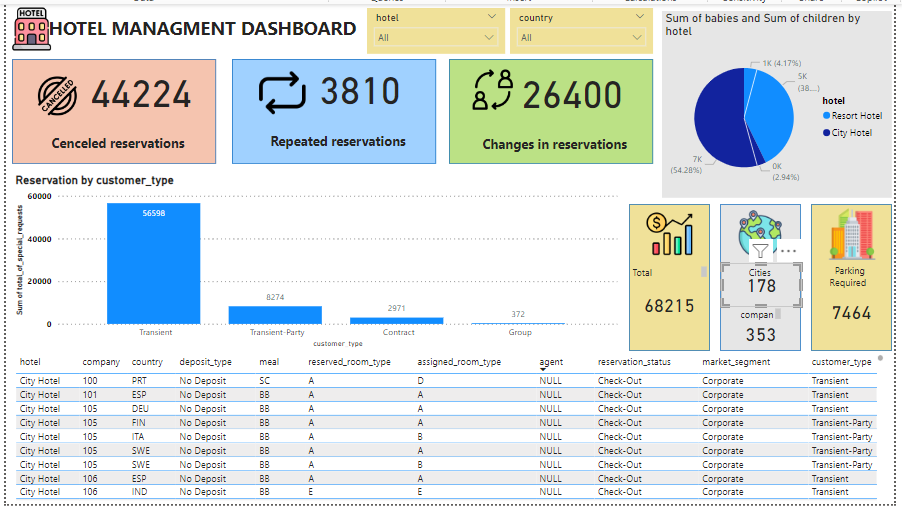

Layout of this report page (visuals, bound fields, positions):
{"tool":"powerbi","page":{"name":"Page 1","canvas":[1280,720],"ordinal":0},"visuals":[{"type":"textbox","box":[56.2,10.1,463.7,56.2],"z":0},{"type":"shape","box":[8.4,79,294,151.2],"z":1000},{"type":"shape","box":[325.9,79,294,151.2],"z":2000},{"type":"shape","box":[638.3,79,294,151.2],"z":3000},{"type":"card","fields":{"Values":["Sum(hotel_bookings.is_canceled)"]},"box":[87.3,99.1,213.3,65.5],"z":4000},{"type":"textbox","box":[60.5,183.1,263.7,35.3],"z":5000},{"type":"image","box":[0,99.1,147.8,65.5],"z":6000},{"type":"card","fields":{"Values":["Sum(hotel_bookings.is_repeated_guest)"]},"box":[403.1,95.7,213.3,65.5],"z":7000},{"type":"textbox","box":[376.2,179.7,263.7,35.3],"z":8000},{"type":"card","fields":{"Values":["Sum(hotel_bookings.booking_changes)"]},"box":[708.7,100.6,213.3,65.5],"z":9000},{"type":"textbox","box":[681.8,184.6,263.7,35.3],"z":10000},{"type":"image","box":[325.9,89,144.5,77.3],"z":11000},{"type":"pieChart","fields":{"Category":["hotel_bookings.hotel"],"Y":["Sum(hotel_bookings.babies)","Sum(hotel_bookings.children)"]},"box":[944.6,10.1,331.2,269.3],"z":12000},{"type":"image","box":[637.9,89.3,126.7,67.7],"z":13000},{"type":"slicer","fields":{"Values":["hotel_bookings.hotel"]},"box":[519.8,5.8,198.7,66.2],"z":14000},{"type":"slicer","fields":{"Values":["hotel_bookings.country"]},"box":[725.8,5.8,205.9,66.2],"z":15000},{"type":"columnChart","title":"Reservation by customer_type","fields":{"Category":["hotel_bookings.customer_type"],"Y":["Sum(hotel_bookings.total_of_special_requests)"]},"box":[8.6,243.4,877,256.3],"z":16000},{"type":"tableEx","fields":{"Values":["hotel_bookings.hotel","hotel_bookings.company","hotel_bookings.country","hotel_bookings.deposit_type","hotel_bookings.meal","hotel_bookings.reserved_room_type","hotel_bookings.assigned_room_type","hotel_bookings.agent","hotel_bookings.reservation_status","hotel_bookings.market_segment","hotel_bookings.customer_type"]},"box":[8.6,499.7,1260,220.3],"z":17000},{"type":"shape","box":[897.1,288,116.6,211.7],"z":18000},{"type":"shape","box":[1028.2,288,116.6,211.7],"z":19000},{"type":"shape","box":[1159.2,288,116.6,211.7],"z":20000},{"type":"card","fields":{"Values":["Count(hotel_bookings.company)"]},"box":[1029.6,449.3,115.2,50.4],"z":21000},{"type":"image","box":[917.3,290.9,76.3,80.6],"z":22000},{"type":"image","box":[1042.6,290.9,87.8,80.6],"z":23000},{"type":"image","box":[1176.5,289.4,83.5,83.5],"z":24000},{"type":"textbox","box":[897.1,373,116.6,28.8],"z":25000},{"type":"textbox","box":[1035.4,373,102.2,28.8],"z":26000},{"type":"textbox","box":[1166.4,370.1,102.2,47.5],"z":27000},{"type":"card","fields":{"Values":["Sum(hotel_bookings.total_of_special_requests)"]},"box":[897.1,401.8,116.6,63.4],"z":28000},{"type":"card","fields":{"Values":["Count(hotel_bookings.country)"]},"box":[1029.6,373,116.6,63.4],"z":29000},{"type":"card","fields":{"Values":["Sum(hotel_bookings.required_car_parking_spaces)"]},"box":[1159.2,411.8,116.6,63.4],"z":30000},{"type":"textbox","box":[1052.6,433.4,67.7,28.8],"z":31000},{"type":"image","box":[0,0,73.4,72],"z":32000}]}

Visuals, with their boxes in screenshot pixels (x1, y1, x2, y2), scaled from the page's 1280x720 canvas onto the 902x506 screenshot:
textbox: l=40, t=7, r=366, b=47
shape: l=6, t=56, r=213, b=162
shape: l=230, t=56, r=437, b=162
shape: l=450, t=56, r=657, b=162
card - Sum(hotel_bookings.is_canceled): l=62, t=70, r=212, b=116
textbox: l=43, t=129, r=228, b=153
image: l=0, t=70, r=104, b=116
card - Sum(hotel_bookings.is_repeated_guest): l=284, t=67, r=434, b=113
textbox: l=265, t=126, r=451, b=151
card - Sum(hotel_bookings.booking_changes): l=499, t=71, r=650, b=117
textbox: l=480, t=130, r=666, b=155
image: l=230, t=63, r=331, b=117
pieChart - hotel_bookings.hotel x Sum(hotel_bookings.babies): l=666, t=7, r=899, b=196
image: l=450, t=63, r=539, b=110
slicer - hotel_bookings.hotel: l=366, t=4, r=506, b=51
slicer - hotel_bookings.country: l=511, t=4, r=657, b=51
"Reservation by customer_type" columnChart: l=6, t=171, r=624, b=351
tableEx - hotel_bookings.hotel x hotel_bookings.company: l=6, t=351, r=894, b=505
shape: l=632, t=202, r=714, b=351
shape: l=725, t=202, r=807, b=351
shape: l=817, t=202, r=899, b=351
card - Count(hotel_bookings.company): l=726, t=316, r=807, b=351
image: l=646, t=204, r=700, b=261
image: l=735, t=204, r=797, b=261
image: l=829, t=203, r=888, b=262
textbox: l=632, t=262, r=714, b=282
textbox: l=730, t=262, r=802, b=282
textbox: l=822, t=260, r=894, b=293
card - Sum(hotel_bookings.total_of_special_requests): l=632, t=282, r=714, b=327
card - Count(hotel_bookings.country): l=726, t=262, r=808, b=307
card - Sum(hotel_bookings.required_car_parking_spaces): l=817, t=289, r=899, b=334
textbox: l=742, t=305, r=789, b=325
image: l=0, t=0, r=52, b=51
